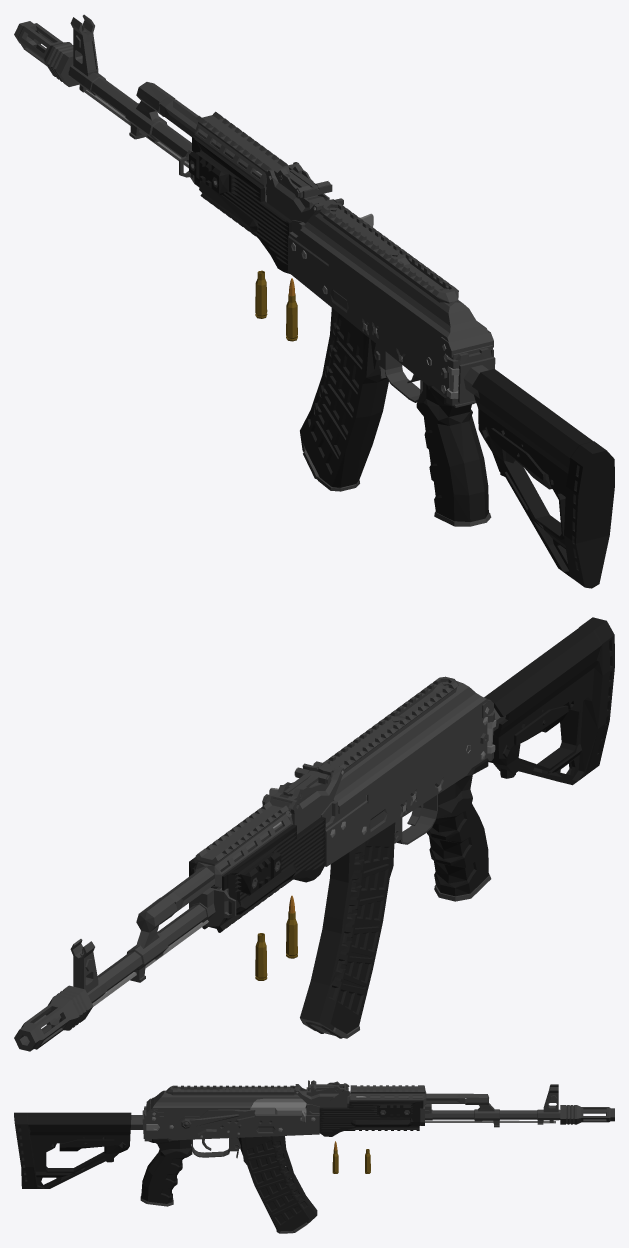
3 views of the same model, one above another, from view 1: azimuth 30°, elevation 25°; view 2: azimuth 150°, elevation 25°; view 3: azimuth 270°, elevation 25° (orthographic). The views are drawn at different scales.
Visible parts, largest first — view 1: stock_25, receiver_18, dust_cover_12, magazine_21, grip_20, handguard_lower_8, handguard_upper_23, flash_hider_24, gas_tube_10, folding_stock_11; view 2: receiver_18, stock_25, magazine_21, dust_cover_12, grip_20, handguard_lower_8, handguard_upper_23, flash_hider_24, gas_tube_10, lower_handguard_cover_7, rear_sight_19; view 3: receiver_18, stock_25, magazine_21, dust_cover_12, handguard_lower_8, grip_20, handguard_upper_23, safety_selector_3, bolt_carrier_15, flash_hider_24, gas_tube_10, cleaning_rod_13 (+1 smaller).
Boxes of the visible parts, bbox=[...] form: stock_25: bbox=[472, 369, 614, 588]; receiver_18: bbox=[68, 14, 493, 407]; dust_cover_12: bbox=[300, 199, 493, 359]; magazine_21: bbox=[300, 308, 388, 491]; grip_20: bbox=[416, 381, 491, 526]; handguard_lower_8: bbox=[189, 136, 292, 273]; handguard_upper_23: bbox=[194, 111, 287, 197]; flash_hider_24: bbox=[14, 21, 78, 86]; gas_tube_10: bbox=[159, 96, 266, 194]; folding_stock_11: bbox=[446, 357, 495, 403]; receiver_18: bbox=[70, 711, 495, 1003]; stock_25: bbox=[484, 617, 614, 785]; magazine_21: bbox=[300, 822, 395, 1038]; dust_cover_12: bbox=[318, 676, 493, 813]; grip_20: bbox=[426, 758, 491, 901]; handguard_lower_8: bbox=[189, 817, 325, 932]; handguard_upper_23: bbox=[194, 801, 291, 887]; flash_hider_24: bbox=[14, 985, 93, 1051]; gas_tube_10: bbox=[162, 810, 293, 912]; lower_handguard_cover_7: bbox=[189, 887, 236, 926]; rear_sight_19: bbox=[283, 763, 332, 797]; receiver_18: bbox=[144, 1081, 560, 1157]; stock_25: bbox=[14, 1112, 131, 1188]; magazine_21: bbox=[238, 1136, 317, 1233]; dust_cover_12: bbox=[146, 1085, 306, 1117]; handguard_lower_8: bbox=[319, 1100, 423, 1136]; grip_20: bbox=[140, 1138, 192, 1206]; handguard_upper_23: bbox=[350, 1085, 426, 1105]; safety_selector_3: bbox=[179, 1109, 255, 1136]; bolt_carrier_15: bbox=[250, 1095, 365, 1122]; flash_hider_24: bbox=[560, 1105, 614, 1124]; gas_tube_10: bbox=[347, 1091, 465, 1106]; cleaning_rod_13: bbox=[425, 1120, 555, 1123].
Bounding box in the file's own units: 0.0782 × 0.252 × 0.9353.
